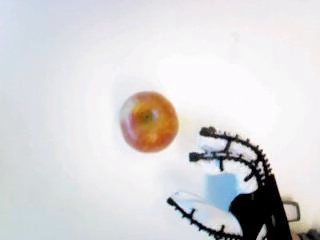apple: (117, 90, 178, 152)
hand: (180, 125, 296, 240)
